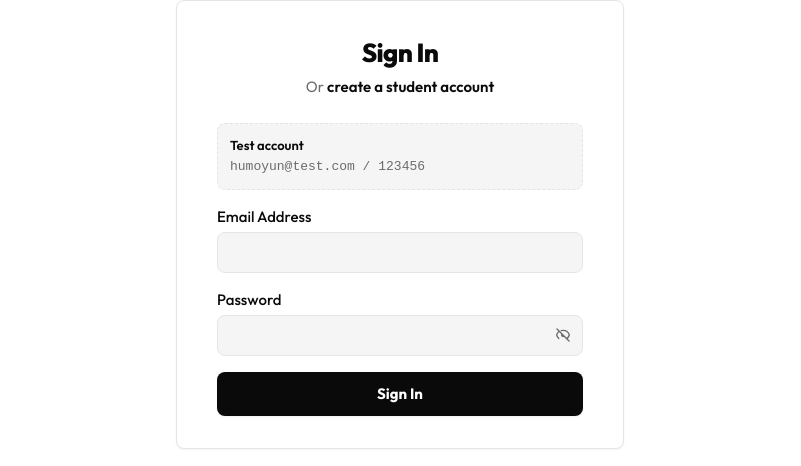
Test case: AuthPanel › exam list states › shows Start for an exam that was never opened
Type "s@example.com" into the field labelled "Email Address" at {"x": 400, "y": 252}, box [217,232,583,272]
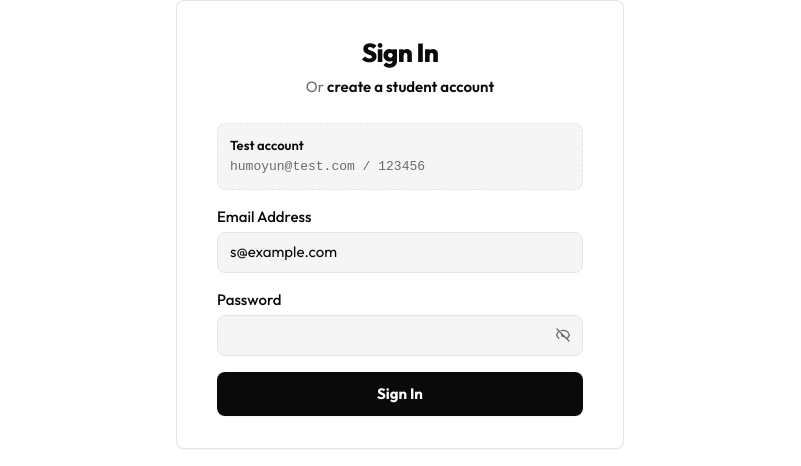
Type "Test1234!" into the password field labelled "Password" at {"x": 400, "y": 335}, box [217,315,583,356]
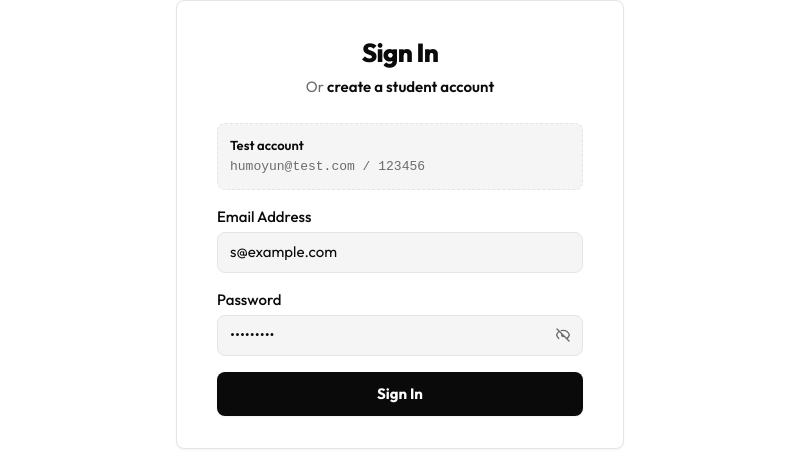
Click the button "Sign In" at {"x": 400, "y": 394}, box [217,372,583,416]
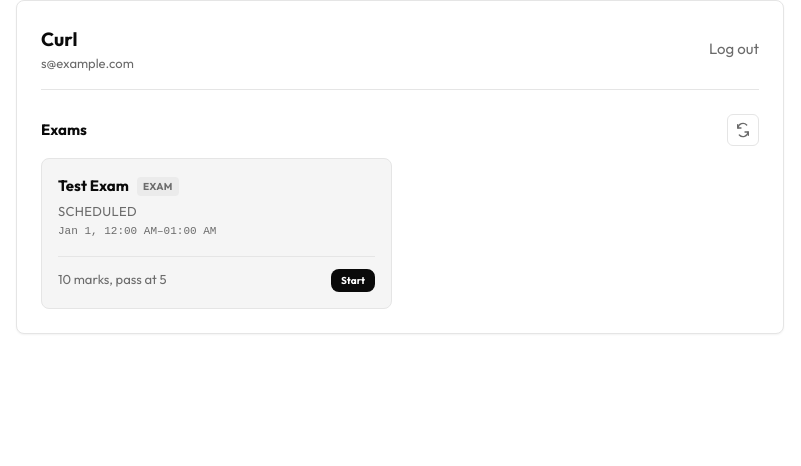
Result: the heading "Test Exam" is shown at [58,175,129,198]
Result: the button "Start" is shown at [331,268,375,292]
